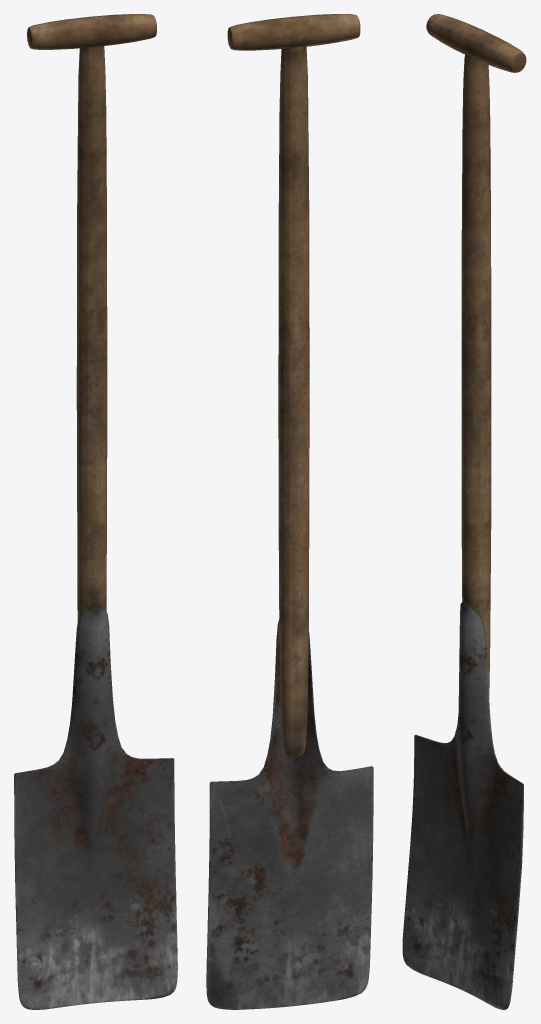
Rendered from rusted_spade.glb.
3 renders of one model, left to right at view 1: azimuth 30°, elevation 25°; view 2: azimuth 210°, elevation 25°; view 3: azimuth 330°, elevation 25°, orthographic. The views are drawn at different scales.
Parts seen in each view (by area): view 1: rusted_spade; view 2: rusted_spade; view 3: rusted_spade.
Part boxes in pixels (x1,y1,x2,y2): rusted_spade: (14, 14, 177, 1009); rusted_spade: (206, 14, 373, 1009); rusted_spade: (402, 14, 526, 1009).
Bounding box in the file's own units: 0.1774 × 1.18 × 0.0881.
Materials: 1 (1 with a texture image).
